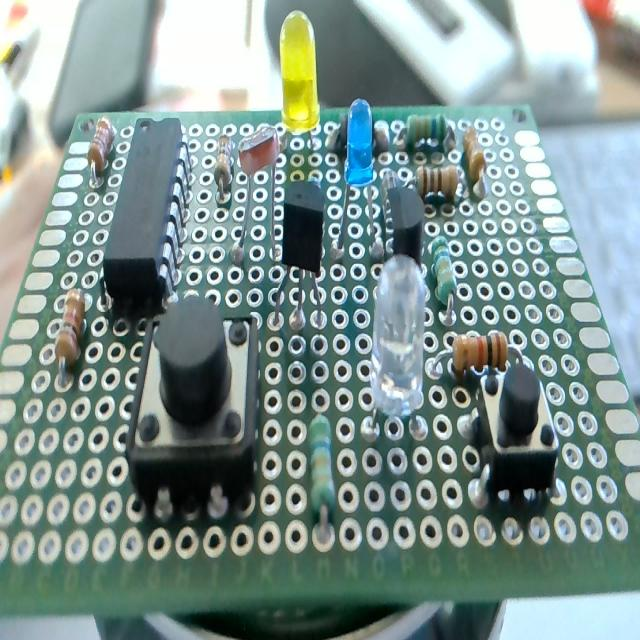IC: (102, 119, 190, 322)
cds: (236, 126, 280, 270)
led: (371, 256, 427, 418), (332, 97, 376, 266), (278, 7, 325, 154)
resistor: (432, 328, 518, 384), (308, 412, 336, 546), (55, 288, 86, 384), (428, 234, 458, 330), (403, 112, 455, 156), (88, 115, 117, 188), (462, 124, 488, 197), (416, 166, 458, 204), (214, 134, 235, 200)
switch: (126, 298, 260, 519), (475, 356, 558, 500)
transistor: (276, 185, 326, 334), (381, 184, 425, 264)
